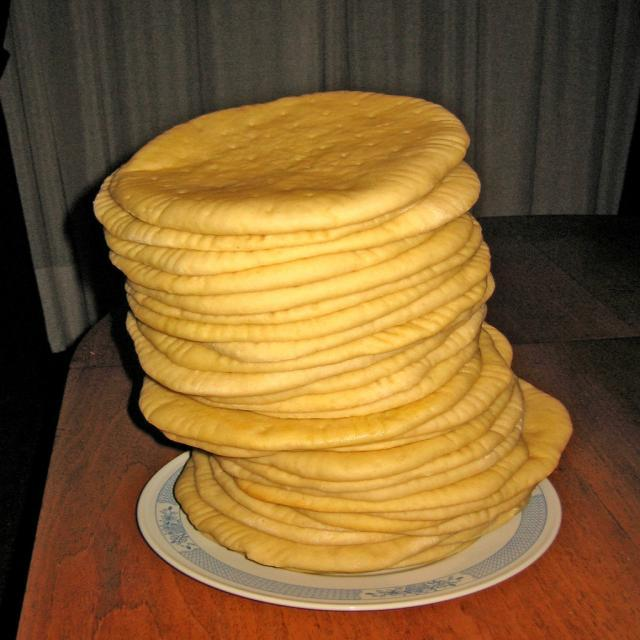Pancake: (94, 162, 572, 580), (113, 97, 468, 233)
